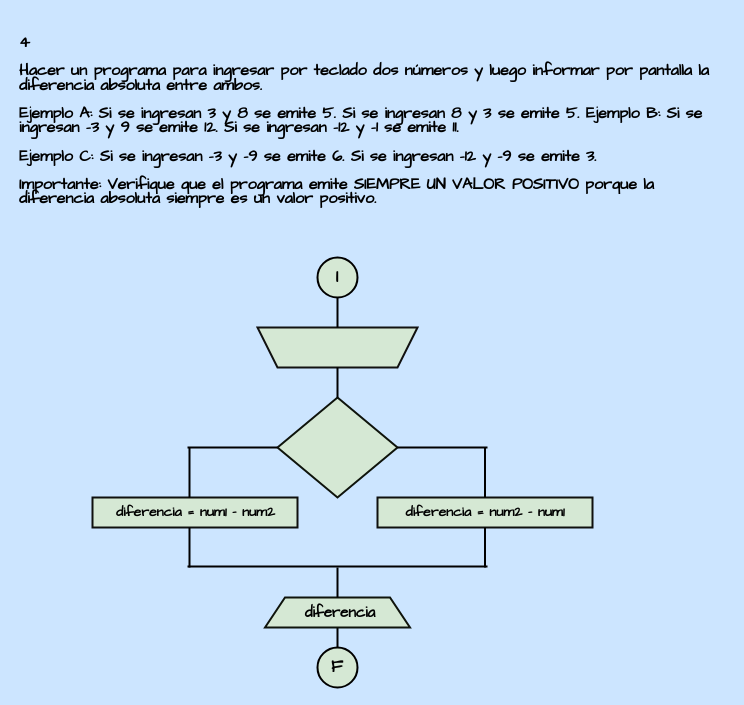
Image size: 744x705. Some labels were removed from this diagram. The shapes that lost their labels are listed below. From the top down, each one's box as (x1, y1, x2, y2) in pixels, then its label:
(256, 326, 418, 368): num1, num2
(276, 396, 398, 498): num1 > num2
